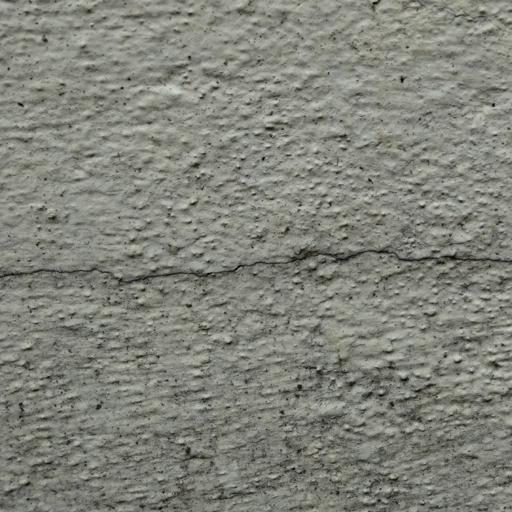minor_crack: (0, 221, 512, 312)
